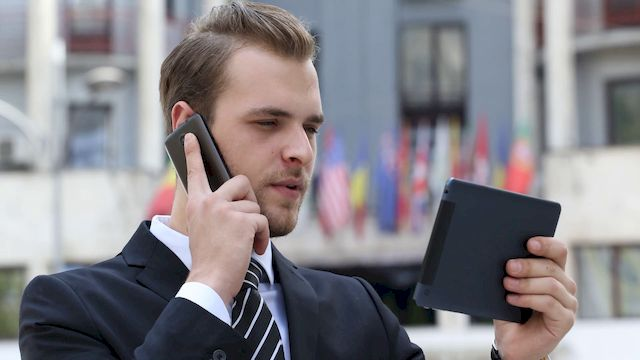phone: (162, 120, 228, 196)
talk: (169, 95, 327, 290)
